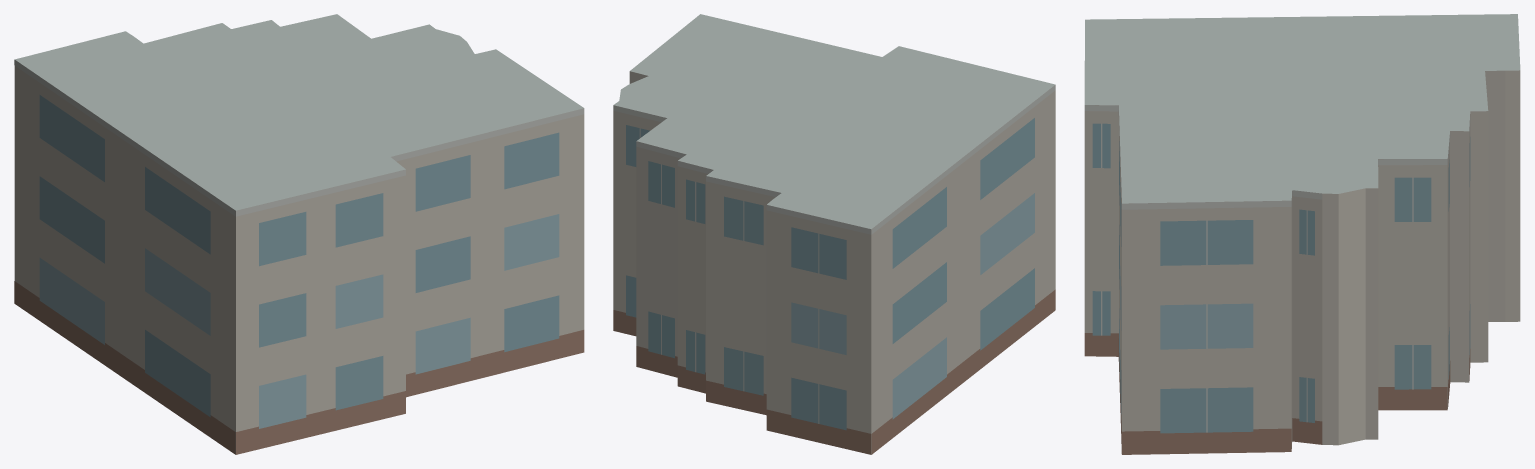
File: survey-upis-32729292.glb
3 views of the same model, side by side, from view 1: azimuth 30°, elevation 25°; view 2: azimuth 150°, elevation 25°; view 3: azimuth 270°, elevation 25° (orthographic). The views are drawn at different scales.
Parts seen in each view (by area): view 1: survey-upis-32729292.tmp; view 2: survey-upis-32729292.tmp; view 3: survey-upis-32729292.tmp.
Part boxes in pixels (x1,y1,x2,y2): survey-upis-32729292.tmp: [14, 14, 584, 454]; survey-upis-32729292.tmp: [613, 14, 1055, 454]; survey-upis-32729292.tmp: [1084, 14, 1520, 454].
Size of the model in its own units: 16.02 by 9.9 by 15.57.
